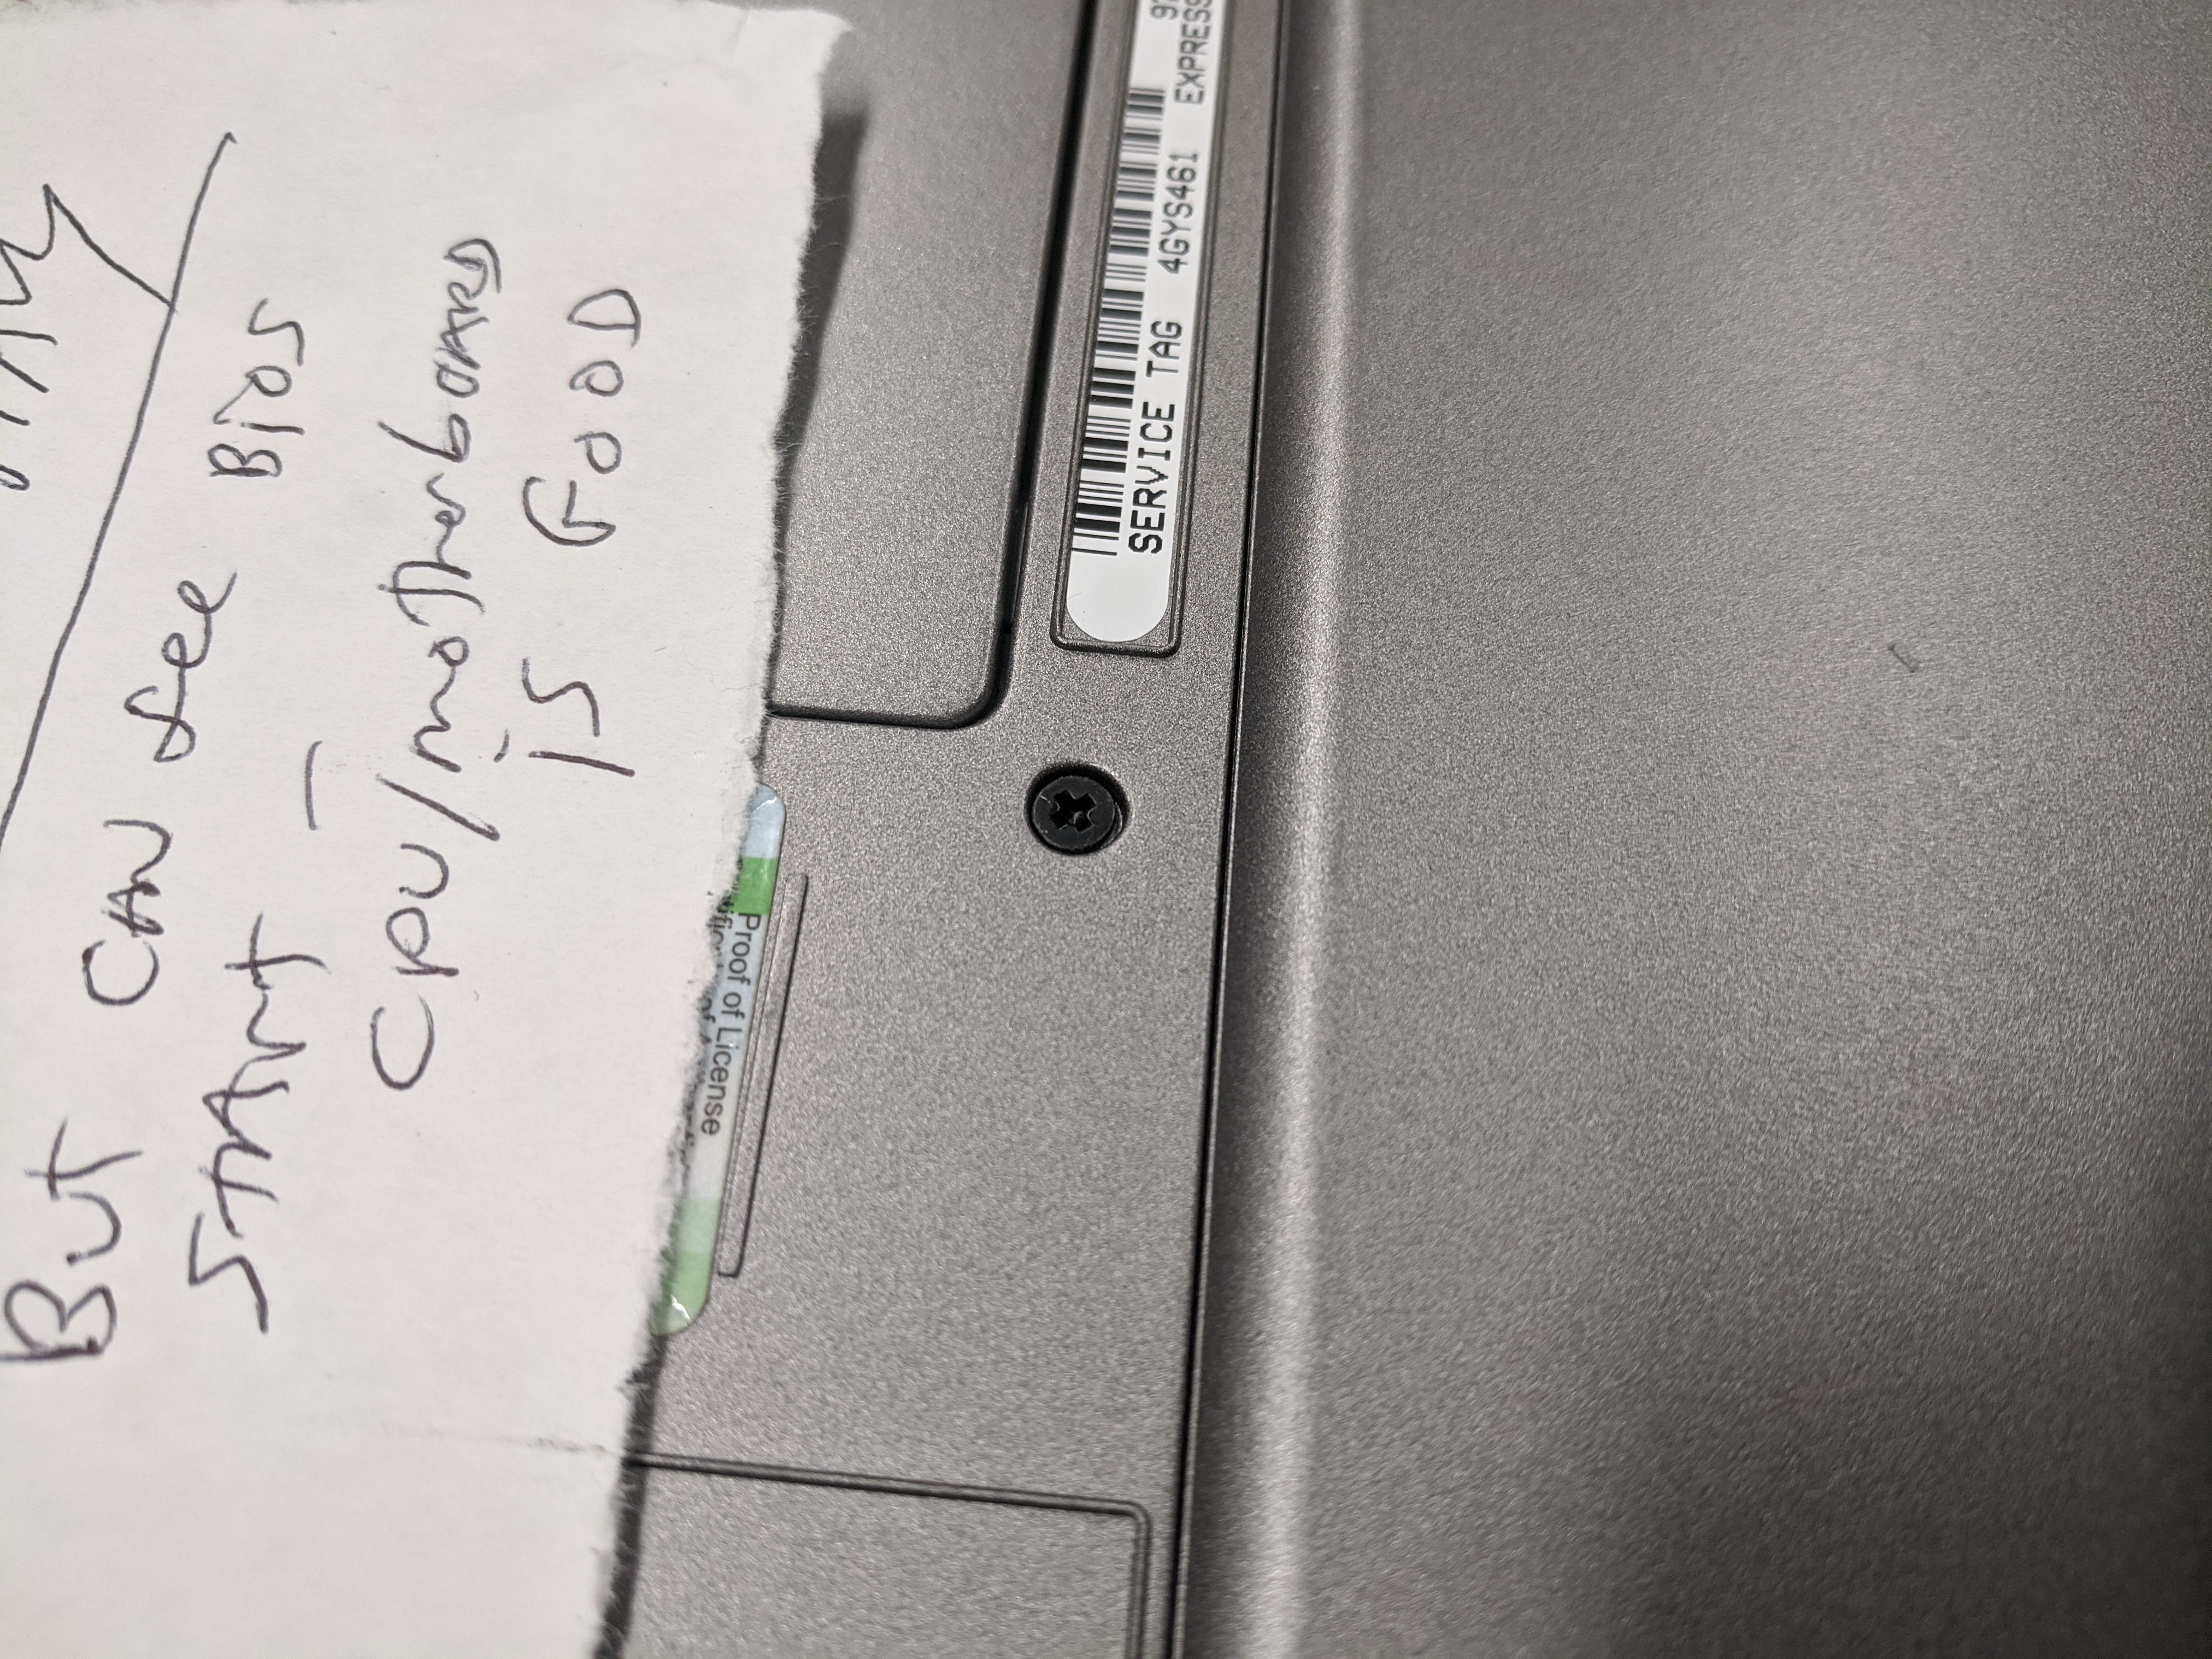cross_recessed_screw: (1019, 753, 1136, 856)
